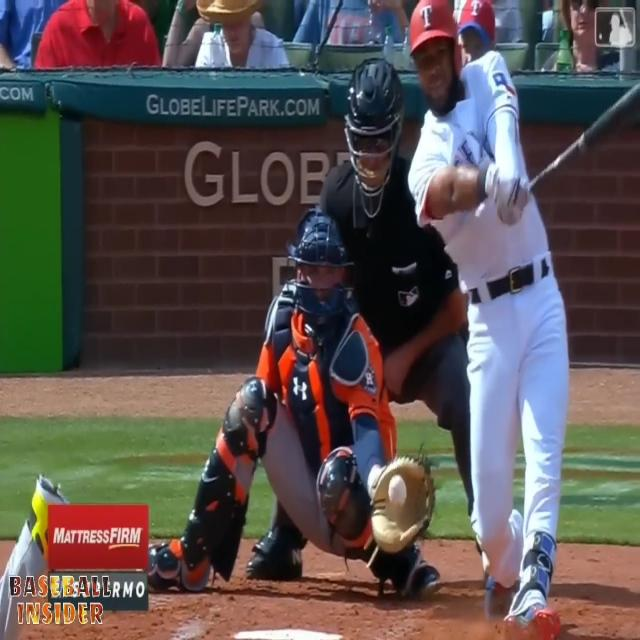baseball: (388, 474, 407, 508)
